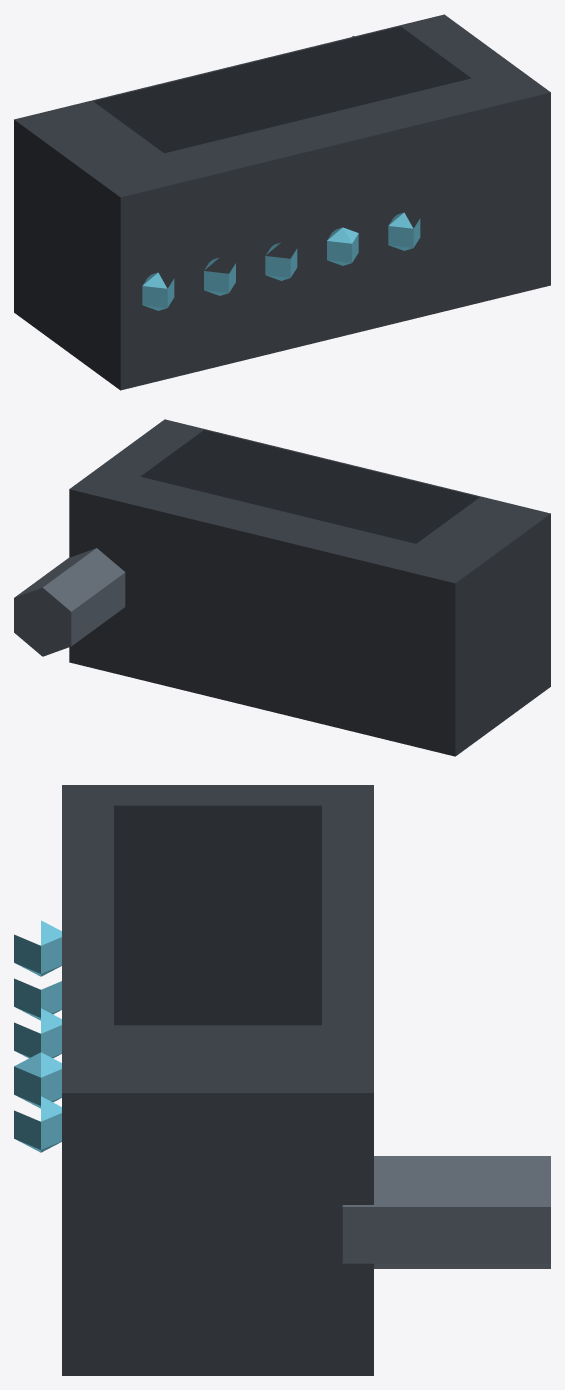
The model's file is droid-vocoder-exceptional.lod.glb.
The picture shows the model from 3 angles, top to bottom: view 1: azimuth 30°, elevation 25°; view 2: azimuth 150°, elevation 25°; view 3: azimuth 270°, elevation 25°; orthographic projection. The views are drawn at different scales.
Parts seen in each view (by area): view 1: m; view 2: m; view 3: m.
Boxes of the visible parts, box(x1,y1,x2,y2) form: m: box(14, 14, 550, 390); m: box(14, 419, 550, 756); m: box(14, 785, 550, 1375).
Bounding box in the file's own units: 0.1 × 0.0463 × 0.0735.
